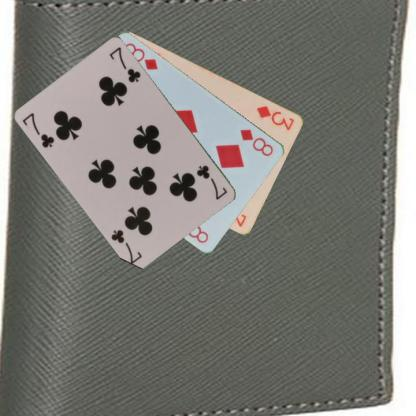3d: (254, 103, 296, 132)
7c: (20, 110, 56, 150), (194, 162, 230, 201)
8d: (237, 126, 275, 158)
